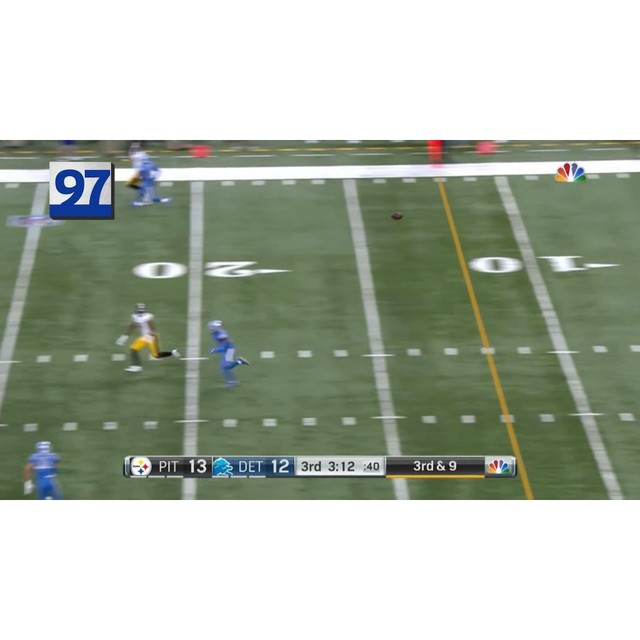american-football-player: (116, 302, 179, 372), (206, 318, 250, 386), (22, 439, 65, 500), (130, 152, 171, 208)
